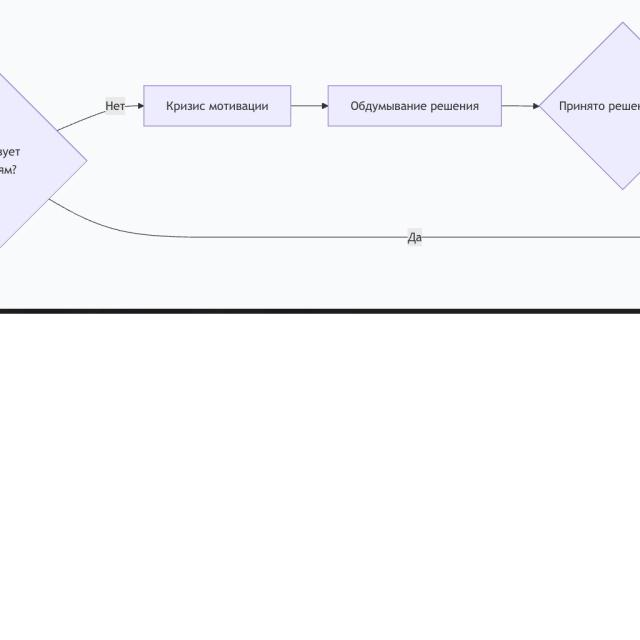arrow: (56, 103, 144, 130), (502, 102, 540, 111), (292, 101, 330, 109)
rectangle: (328, 84, 502, 127), (142, 85, 292, 127)
text_region: (104, 96, 126, 114), (406, 230, 424, 247)
